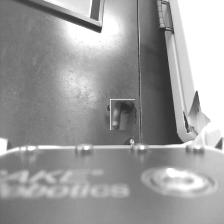Door Handle: (109, 101, 136, 128)
Lock: (124, 138, 138, 146)
